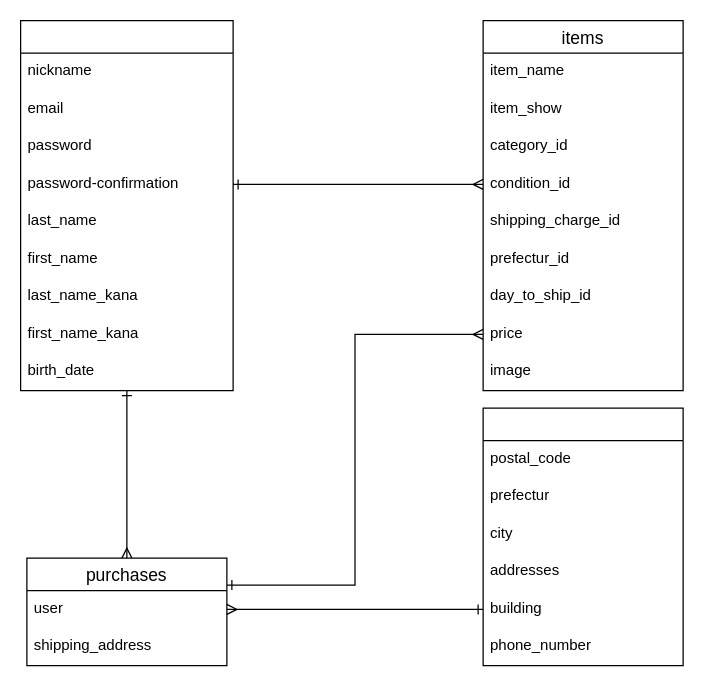
The diagram is 704 pixels wide and 686 high, and some of its shapes have lost their labels. The box of each missing label's shape, as (x1, y1, x2, y2) in pixels:
shipping_addresses: (482, 407, 683, 666)
users: (19, 19, 233, 391)
